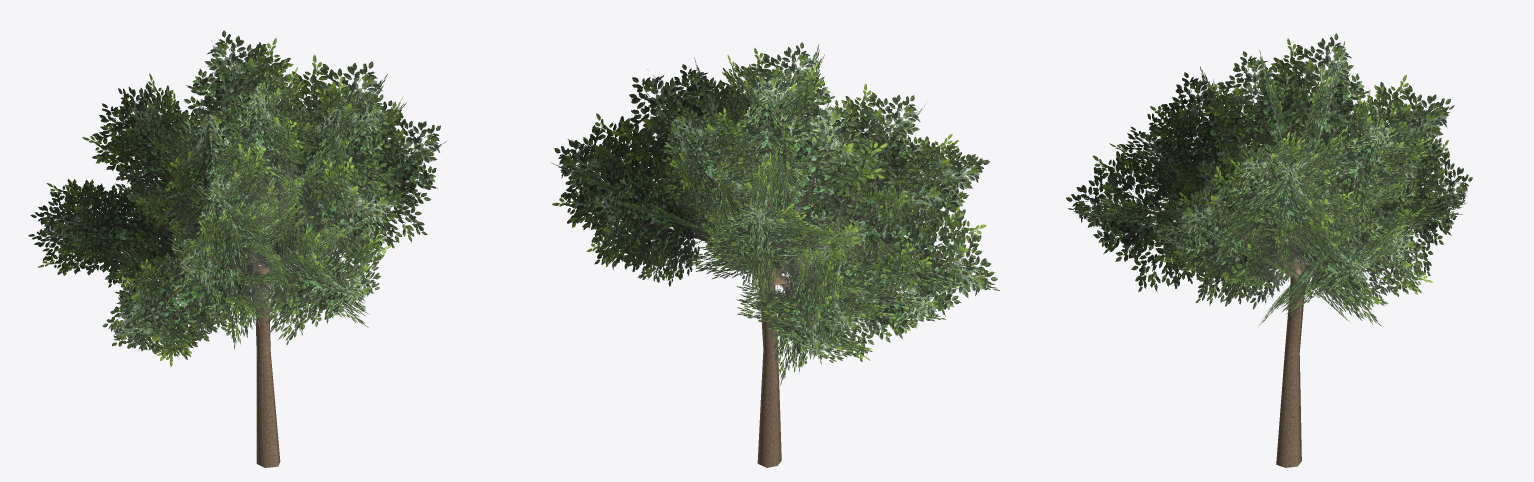
File: CherryTree.dae
The picture shows the model from 3 angles, left to right: view 1: azimuth 30°, elevation 25°; view 2: azimuth 150°, elevation 25°; view 3: azimuth 270°, elevation 25°; orthographic projection. The views are drawn at different scales.
Parts seen in each view (by area): view 1: CherryTree; view 2: CherryTree; view 3: CherryTree.
Part boxes in pixels (<box>): CherryTree: <box>28,30,446,467</box>; CherryTree: <box>551,42,999,467</box>; CherryTree: <box>1066,33,1472,467</box>.
Bounding box in the file's own units: 0.9038 × 0.8977 × 0.8951.
Materials: 1 (1 with a texture image).
